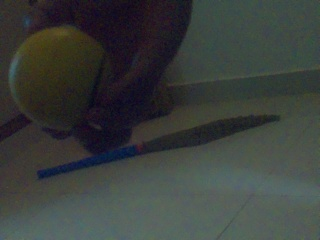ball: (8, 25, 110, 130)
